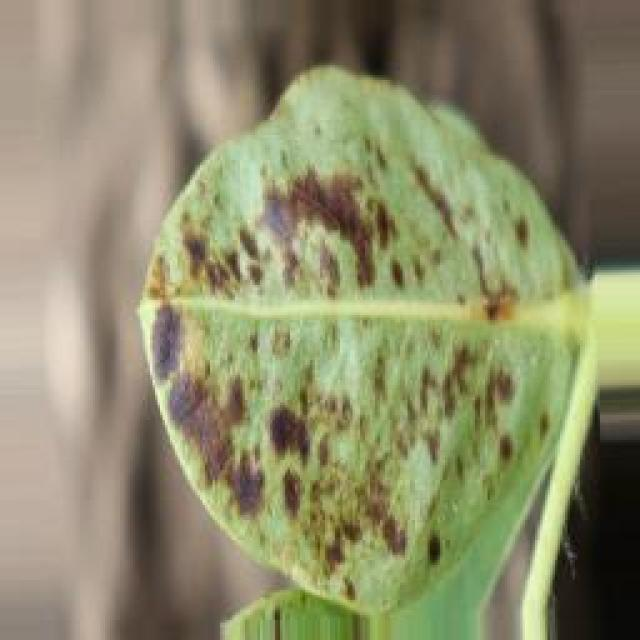Whitefly: (120, 142, 552, 594)
